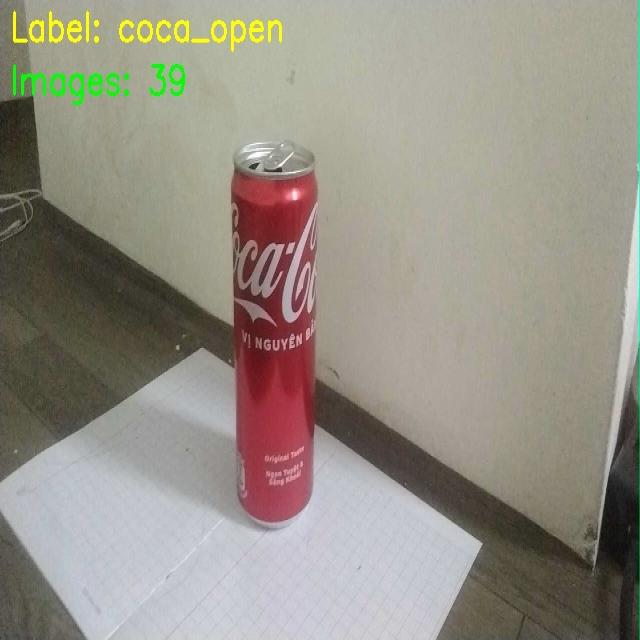Coca_open: (229, 116, 332, 530)
